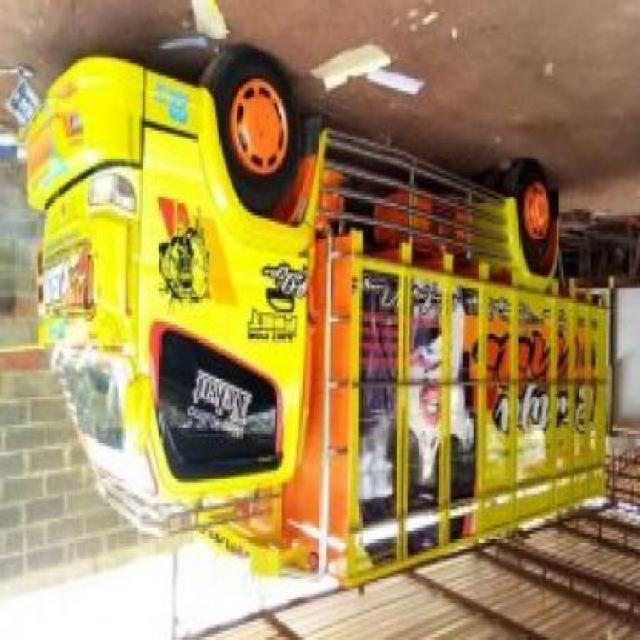truck: (22, 47, 618, 593)
